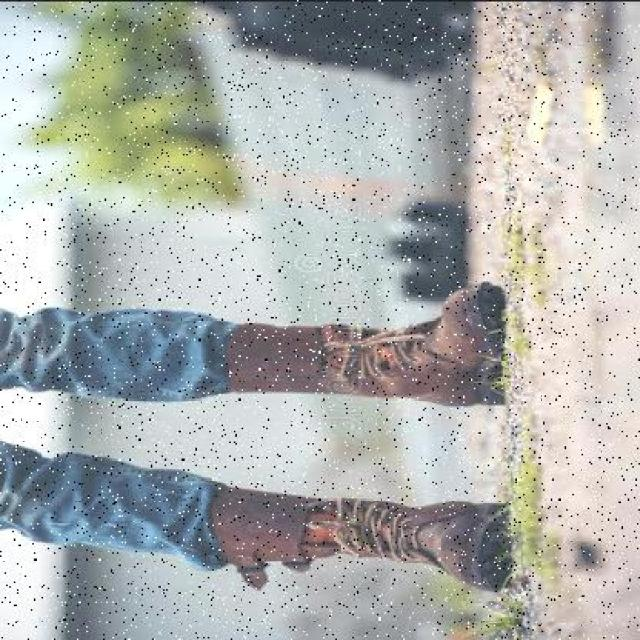shoes: (240, 280, 514, 395), (220, 483, 492, 583)
